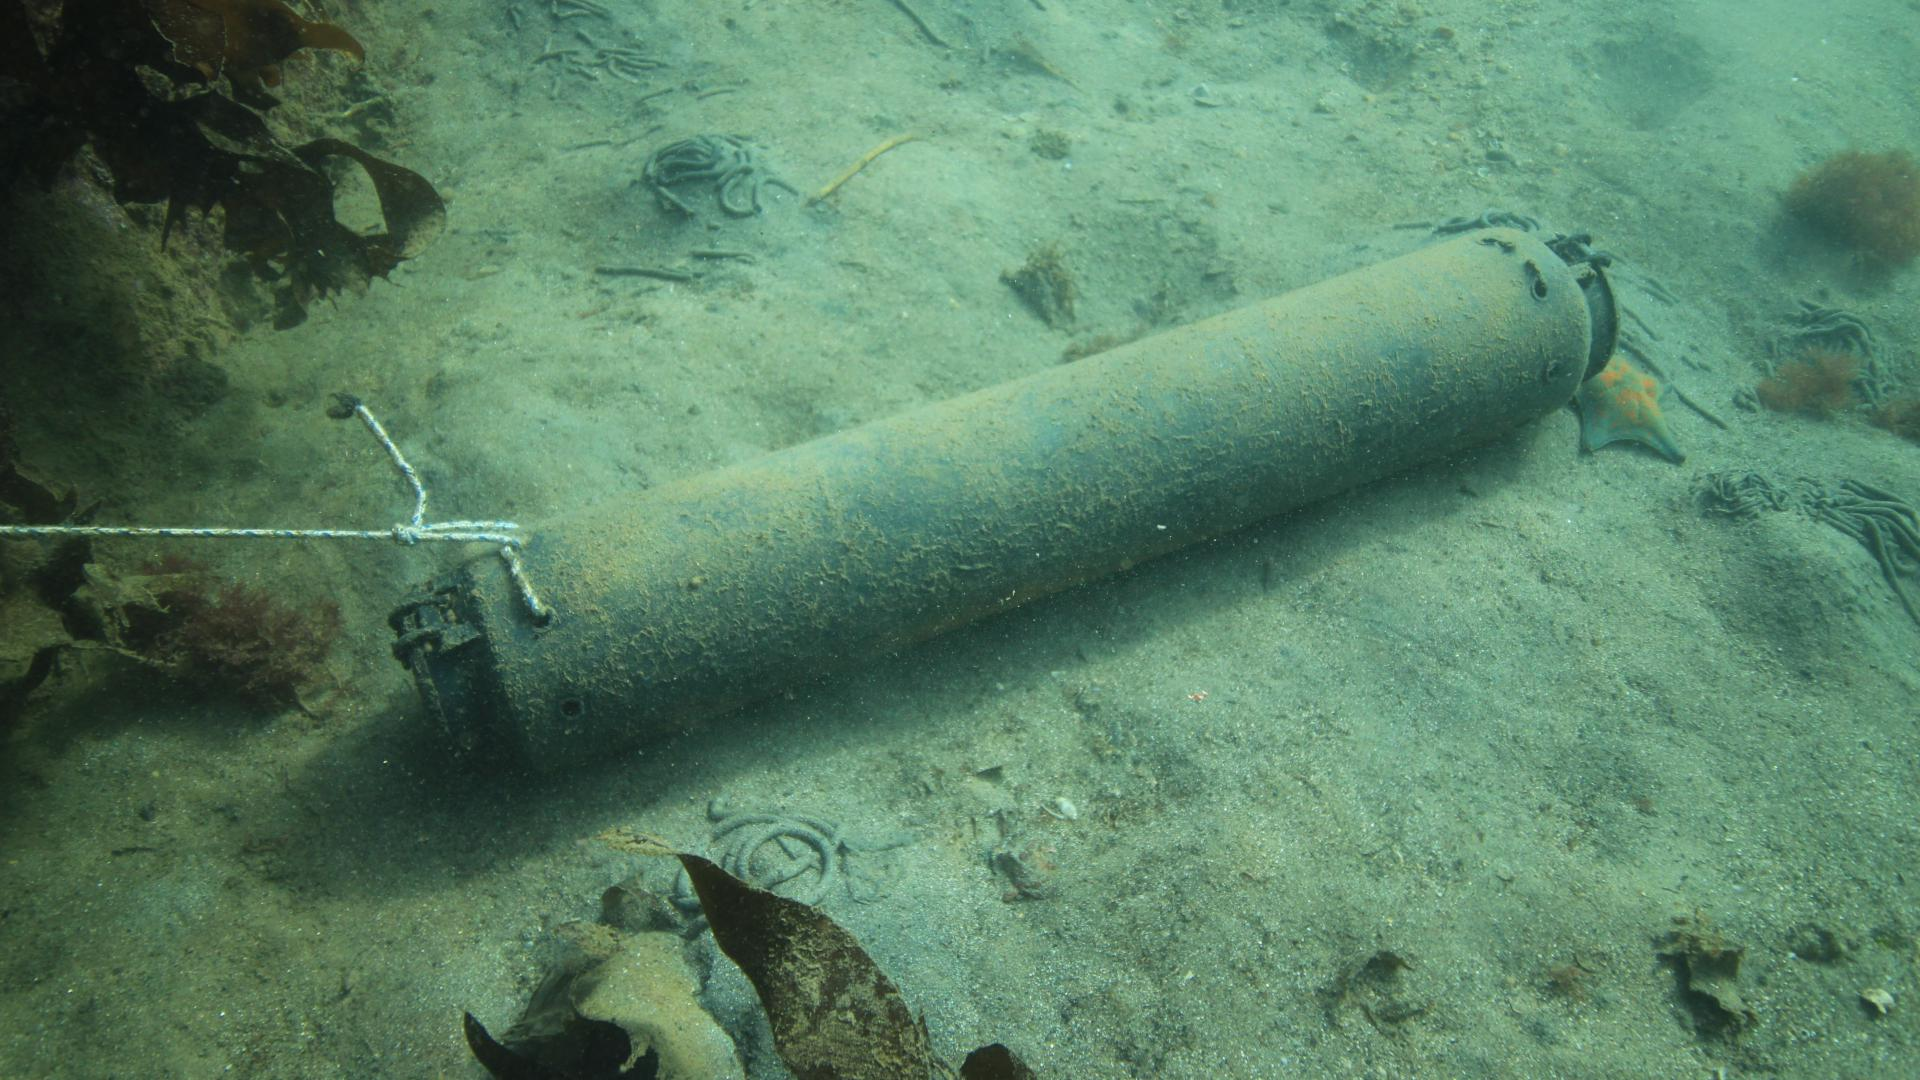bundle of ropes: (0, 397, 533, 550)
eel fish trap: (393, 222, 1625, 796)
